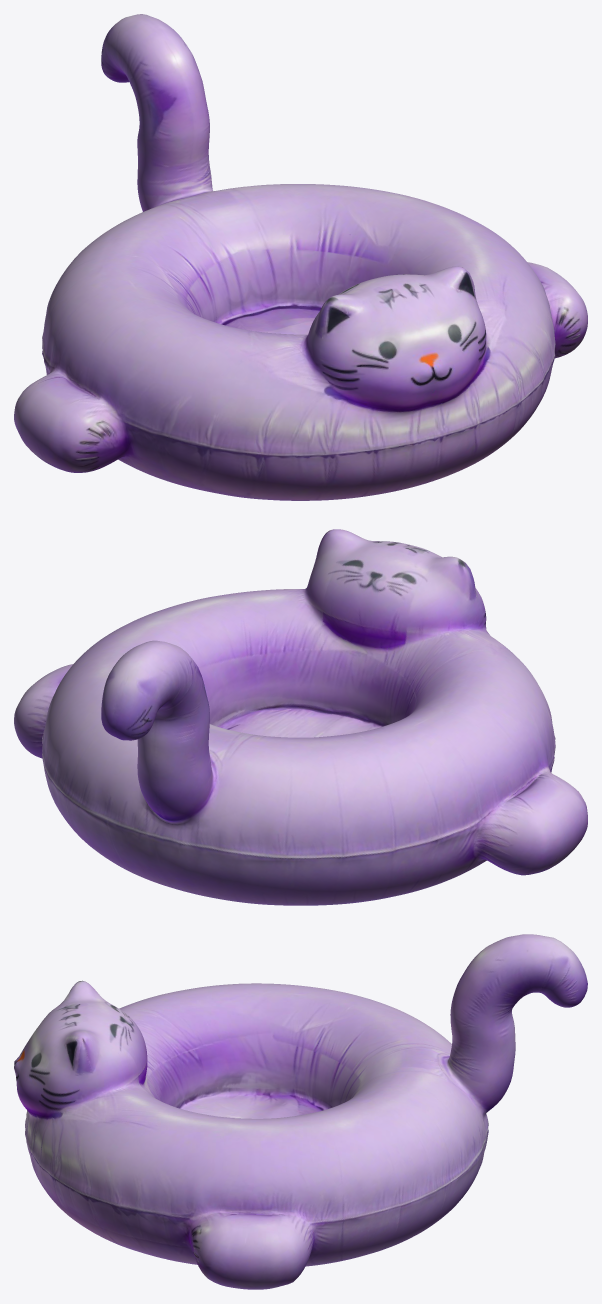
The model's file is Float1.fbx.
3 views of the same model, one above another, from view 1: azimuth 30°, elevation 25°; view 2: azimuth 150°, elevation 25°; view 3: azimuth 270°, elevation 25° (orthographic). The views are drawn at different scales.
Visible parts, largest first — view 1: float_purple; view 2: float_purple; view 3: float_purple.
Part boxes in pixels (x1=…): float_purple: x1=14, y1=14, x2=587, y2=500; float_purple: x1=14, y1=529, x2=587, y2=905; float_purple: x1=14, y1=934, x2=587, y2=1289.
Size of the model in its own units: 197 by 99.31 by 200.
Materials: 1 (1 with a texture image).
